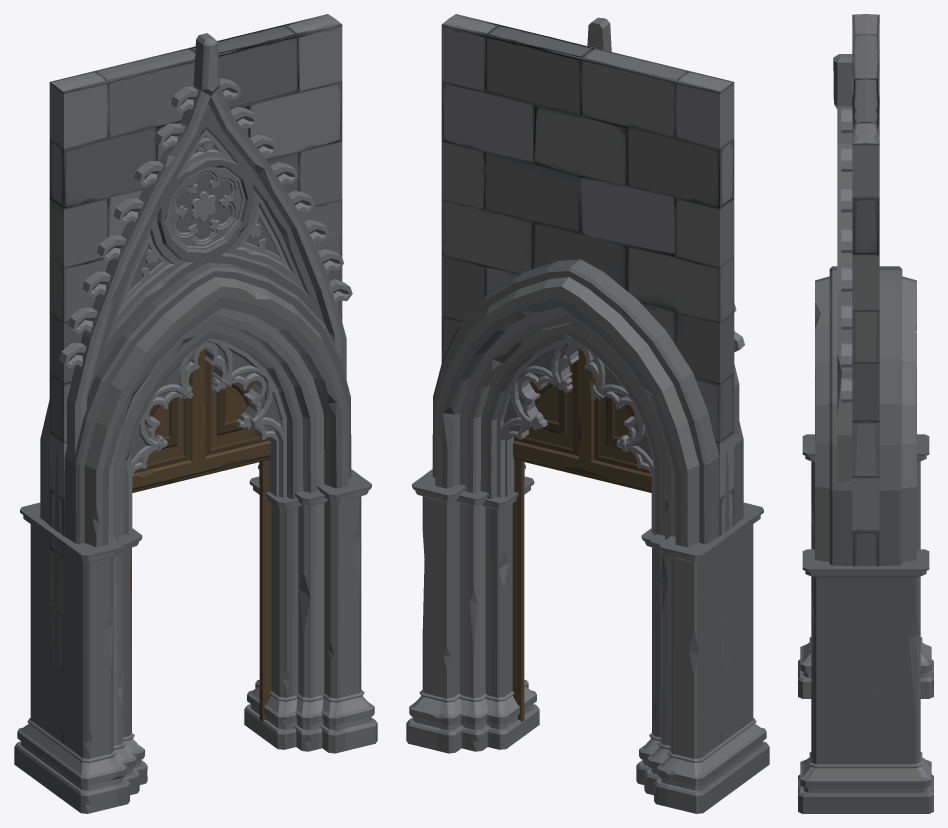
Rendered from crypt_portal.gltf.
The picture shows the model from 3 angles, left to right: view 1: azimuth 30°, elevation 25°; view 2: azimuth 150°, elevation 25°; view 3: azimuth 270°, elevation 25°; orthographic projection. The views are drawn at different scales.
Parts seen in each view (by area): view 1: crypt_portal; view 2: crypt_portal; view 3: crypt_portal.
Boxes of the visible parts, left/top/right/bottom form: crypt_portal: left=14, top=14, right=377, bottom=813; crypt_portal: left=406, top=14, right=769, bottom=813; crypt_portal: left=798, top=14, right=933, bottom=813.
Bounding box in the file's own units: 2.66 × 6.21 × 1.11.
2 materials, 2 textured.
